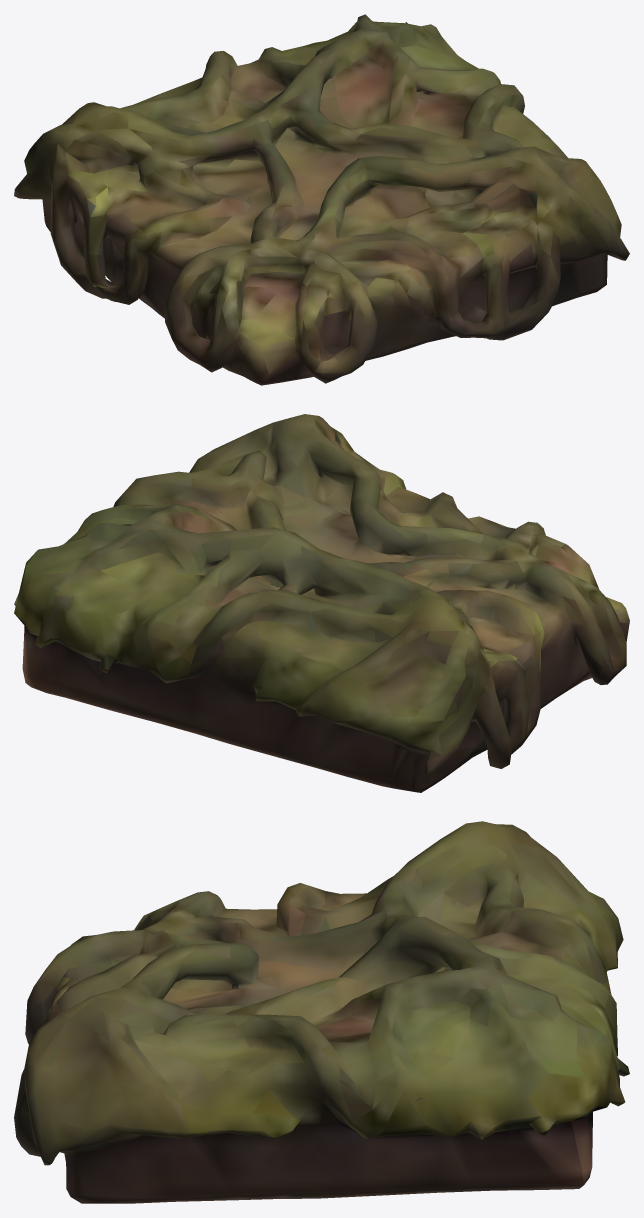
Rendered from m01_raizes_musgo.glb.
The picture shows the model from 3 angles, top to bottom: view 1: azimuth 30°, elevation 25°; view 2: azimuth 150°, elevation 25°; view 3: azimuth 270°, elevation 25°; orthographic projection. The views are drawn at different scales.
Parts seen in each view (by area): view 1: m01_raizes_musgo; view 2: m01_raizes_musgo; view 3: m01_raizes_musgo.
Part boxes in pixels (left/top/right/bottom): m01_raizes_musgo: left=14, top=14, right=629, bottom=385; m01_raizes_musgo: left=14, top=414, right=629, bottom=792; m01_raizes_musgo: left=14, top=821, right=629, bottom=1203.
Size of the model in its own units: 1.1 by 0.4356 by 1.11.
Materials: 1 (1 with a texture image).
